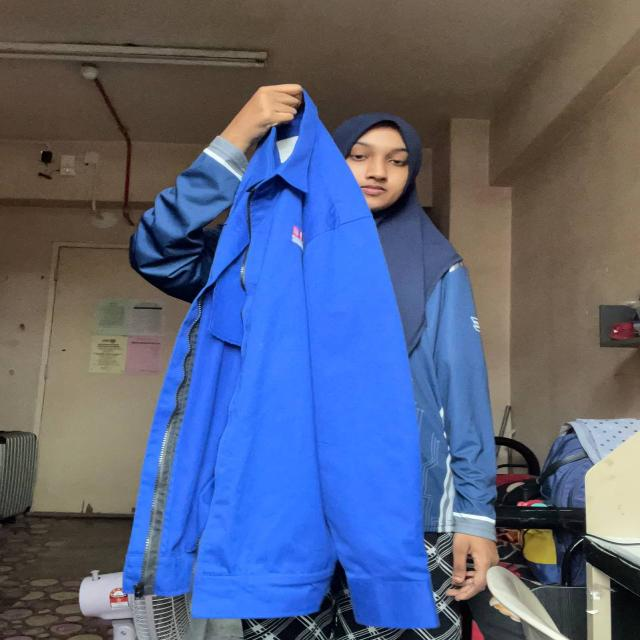person_without_labcoat: (123, 84, 497, 640)
